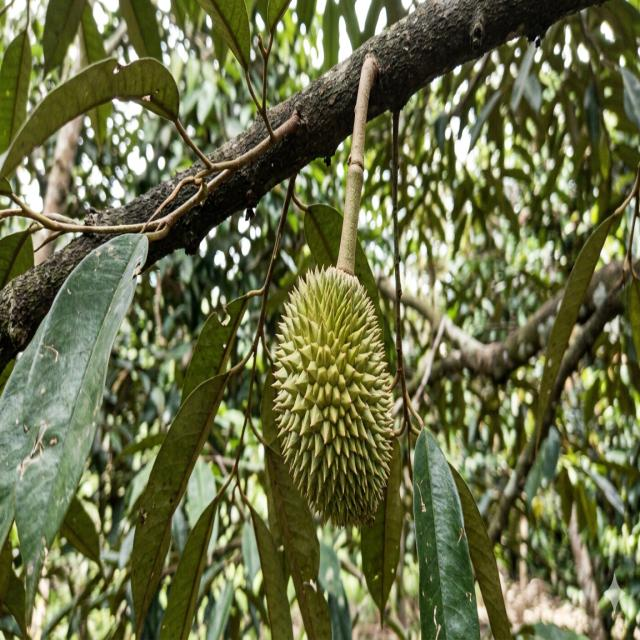immature: (269, 260, 391, 528)
